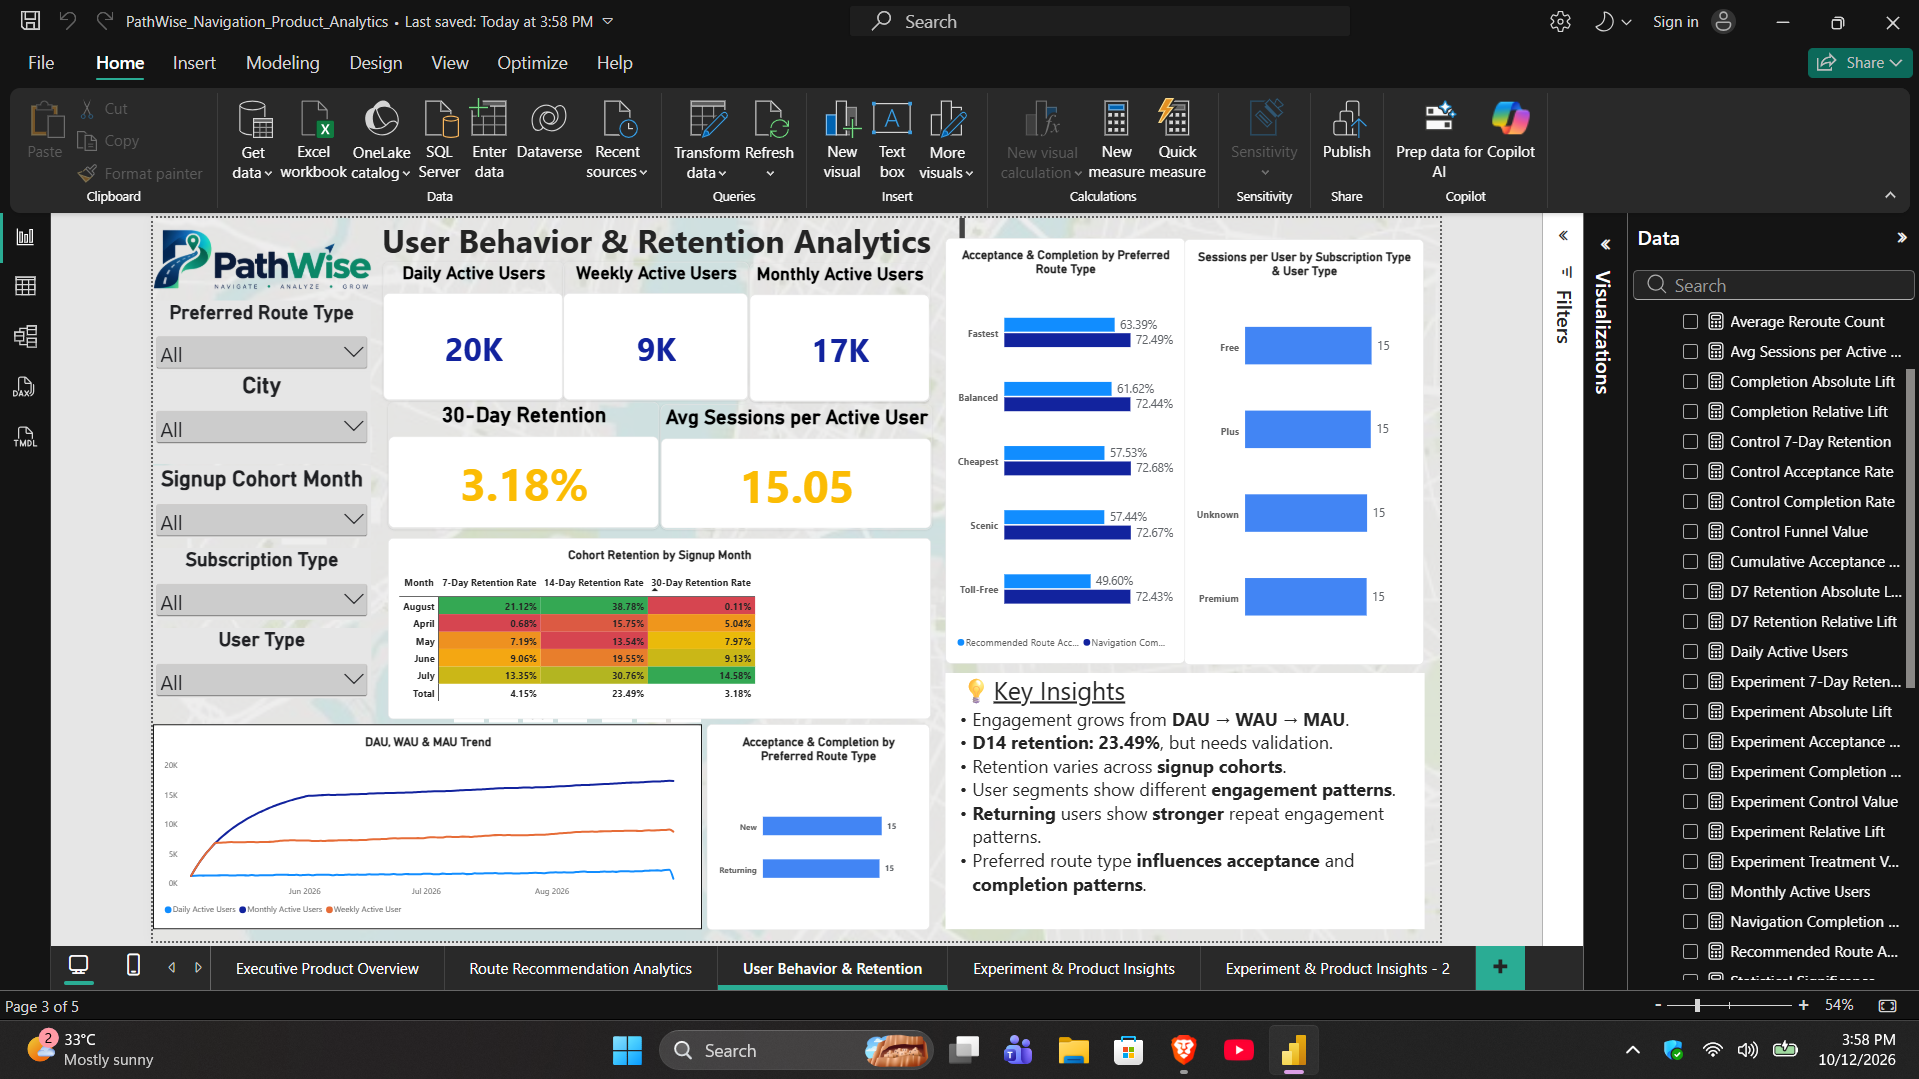

This screenshot's page, from the dashboard's own definition file:
{"tool":"powerbi","page":{"name":"User Behavior & Retention","canvas":[1920,1080],"ordinal":2},"visuals":[{"type":"textbox","box":[341.7,0,870.7,61.7],"z":0},{"type":"cardVisual","title":"Avg Sessions per Active User","fields":{"Data":["KPI Measures.Avg Sessions per Active User"]},"box":[757.5,277.5,405.5,187.3],"z":1000},{"type":"cardVisual","title":"30-Day Retention","fields":{"Data":["Date Table.30-Day Retention Rate"]},"box":[350,275,405,190],"z":2000},{"type":"lineChart","title":"DAU, WAU & MAU Trend","fields":{"Y":["KPI Measures.Daily Active Users","KPI Measures.Monthly Active Users","KPI Measures.Weekly Active User"],"Category":["Date Table.Date.Variation.Date Hierarchy.Year","Date Table.Date.Variation.Date Hierarchy.Month","Date Table.Date.Variation.Date Hierarchy.Day"]},"box":[0,755,820,307.5],"z":3000},{"type":"clusteredBarChart","title":"Sessions per User by Subscription Type & User Type","fields":{"Category":["pathwise users.subscription_type"],"Y":["KPI Measures.Avg Sessions per Active User"]},"box":[1540,32.5,357.5,635],"z":4000},{"type":"slicer","title":"Preferred Route Type ","fields":{"Values":["pathwise users.preferred_route_type"]},"box":[0,123.5,325,107.5],"z":5000},{"type":"slicer","title":"City ","fields":{"Values":["pathwise navigation_sessions.city"]},"box":[0,230,325,137.5],"z":6000},{"type":"slicer","title":"Signup Cohort Month","fields":{"Values":["pathwise users.Signup Cohort.Variation.Date Hierarchy.Month"]},"box":[0,370,325.2,109.1],"z":7000},{"type":"slicer","title":"Subscription Type","fields":{"Values":["pathwise users.subscription_type"]},"box":[0,492.5,325.2,107],"z":8000},{"type":"slicer","title":"User Type","fields":{"Values":["pathwise users.user_type"]},"box":[0,612.5,325.2,105],"z":9000},{"type":"image","box":[0,0,325.2,123.5],"z":10000},{"type":"textbox","box":[1182.5,680,715,382.5],"z":11000},{"type":"clusteredBarChart","title":"Acceptance & Completion by Preferred Route Type","fields":{"Category":["pathwise users.preferred_route_type"],"Y":["KPI Measures.Recommended Route Acceptance Rate","KPI Measures.Navigation Completion Rate"]},"box":[1182.5,30,357.5,635],"z":12000},{"type":"clusteredBarChart","title":"Acceptance & Completion by Preferred Route Type","fields":{"Category":["pathwise users.user_type"],"Y":["KPI Measures.Avg Sessions per Active User"]},"box":[827.5,755,332.5,307.5],"z":13000},{"type":"pivotTable","title":"Cohort Retention by Signup Month","fields":{"Rows":["pathwise users.Signup Cohort.Variation.Date Hierarchy.Month"],"Values":["Date Table.7-Day Retention Rate","Date Table.D14 Retention Rate","Date Table.30-Day Retention Rate"]},"box":[350,477.5,810,270],"z":14000},{"type":"cardVisual","title":"Daily Active Users","fields":{"Data":["KPI Measures.Daily Active Users"]},"box":[342.5,65,270,207.5],"z":15000},{"type":"cardVisual","title":"Weekly Active Users","fields":{"Data":["KPI Measures.Weekly Active User"]},"box":[612.5,65,277.5,207.5],"z":16000},{"type":"cardVisual","title":"Monthly Active Users","fields":{"Data":["KPI Measures.Monthly Active Users"]},"box":[890,67.5,270,207.5],"z":17000}]}

Visuals, with their boxes on the page's 1920x1080 design canvas (x1, y1, x2, y2). These are canvas units, not pixel positions in the 1919x1079 screenshot, which may show the page scaled, cropped or inside an application window:
textbox: (left=342, top=0, right=1212, bottom=62)
"Avg Sessions per Active User" cardVisual: (left=758, top=278, right=1163, bottom=465)
"30-Day Retention" cardVisual: (left=350, top=275, right=755, bottom=465)
"DAU, WAU & MAU Trend" lineChart: (left=0, top=755, right=820, bottom=1062)
"Sessions per User by Subscription Type & User Type" clusteredBarChart: (left=1540, top=32, right=1898, bottom=668)
"Preferred Route Type " slicer: (left=0, top=124, right=325, bottom=231)
"City " slicer: (left=0, top=230, right=325, bottom=368)
"Signup Cohort Month" slicer: (left=0, top=370, right=325, bottom=479)
"Subscription Type" slicer: (left=0, top=492, right=325, bottom=600)
"User Type" slicer: (left=0, top=612, right=325, bottom=718)
image: (left=0, top=0, right=325, bottom=124)
textbox: (left=1182, top=680, right=1898, bottom=1062)
"Acceptance & Completion by Preferred Route Type" clusteredBarChart: (left=1182, top=30, right=1540, bottom=665)
"Acceptance & Completion by Preferred Route Type" clusteredBarChart: (left=828, top=755, right=1160, bottom=1062)
"Cohort Retention by Signup Month" pivotTable: (left=350, top=478, right=1160, bottom=748)
"Daily Active Users" cardVisual: (left=342, top=65, right=612, bottom=272)
"Weekly Active Users" cardVisual: (left=612, top=65, right=890, bottom=272)
"Monthly Active Users" cardVisual: (left=890, top=68, right=1160, bottom=275)
